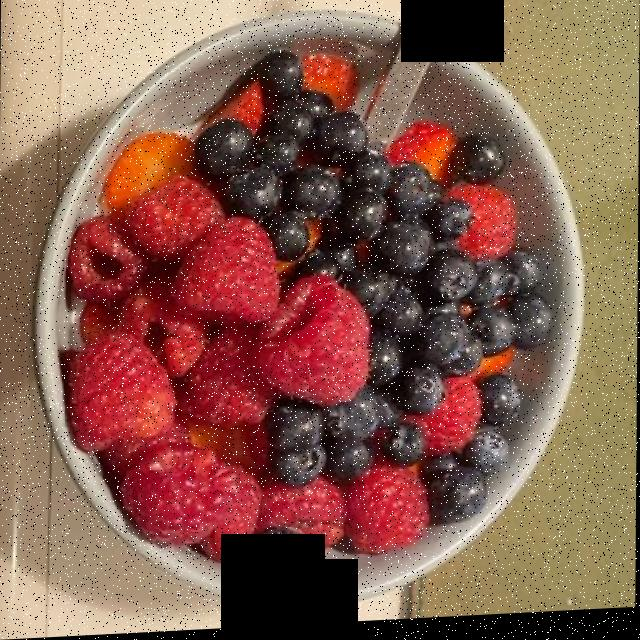raspberries: (70, 191, 516, 570)
strawberries: (99, 44, 454, 212)
